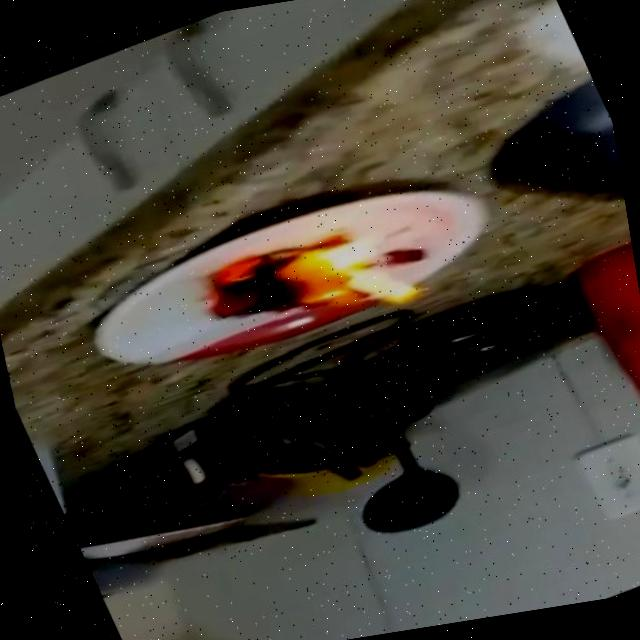fire: (172, 189, 437, 383)
